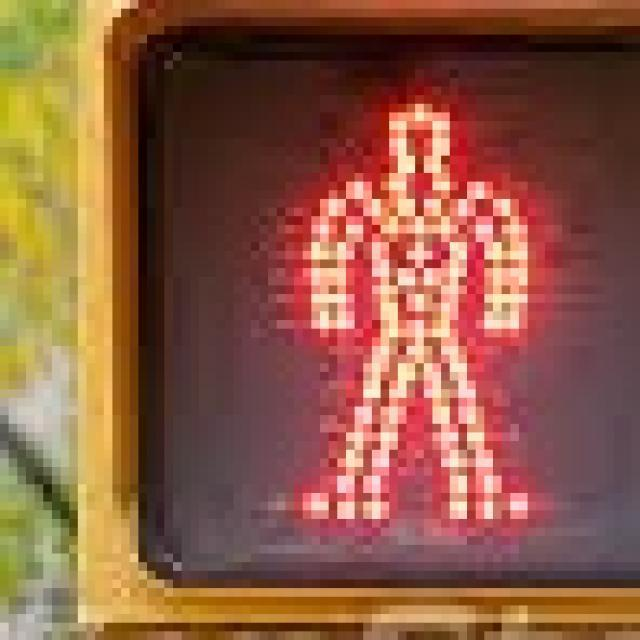red-crossing: (233, 43, 580, 562)
